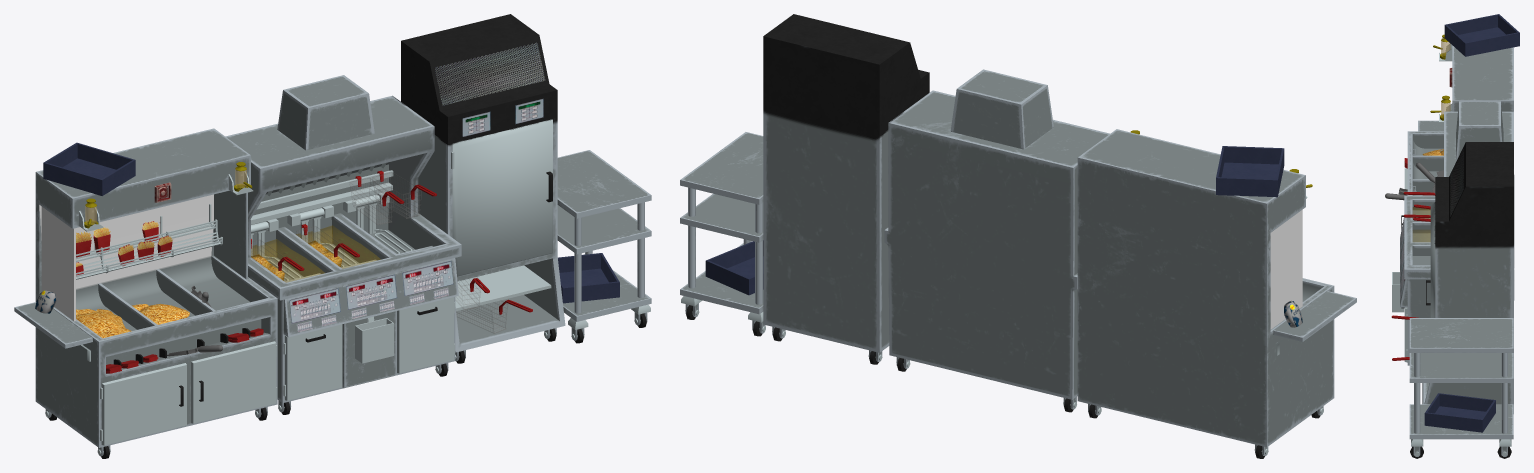
3 renders of one model, left to right at view 1: azimuth 30°, elevation 25°; view 2: azimuth 150°, elevation 25°; view 3: azimuth 270°, elevation 25°, orthographic. The views are drawn at different scales.
Parts seen in each view (by area): view 1: 5_low, 34_low, 39_low, 40_low, 26_low, 25_low, object 37, object 81, olive-oil, olive-oil.001, object 72, object 73; view 2: 34_low, 5_low, 39_low, 25_low, object 37, object 81; view 3: 39_low, 25_low, 5_low, 34_low, object 37, object 81, 40_low, 1_low, olive-oil, 1_low.001.
Boxes of the visible parts, x1,y1,x2,y2 form: 5_low: [225, 75, 461, 414]; 34_low: [14, 128, 277, 458]; 39_low: [401, 14, 565, 363]; 40_low: [452, 119, 552, 276]; 26_low: [101, 341, 276, 445]; 25_low: [557, 150, 651, 343]; object 37: [43, 142, 135, 195]; object 81: [558, 253, 619, 303]; olive-oil: [296, 225, 380, 268]; olive-oil.001: [251, 239, 324, 282]; object 72: [76, 309, 131, 338]; object 73: [132, 303, 189, 324]; 34_low: [1077, 129, 1356, 458]; 5_low: [884, 69, 1109, 412]; 39_low: [763, 14, 929, 364]; 25_low: [680, 132, 765, 336]; object 37: [1216, 146, 1284, 197]; object 81: [705, 240, 763, 295]; 39_low: [1422, 142, 1513, 413]; 25_low: [1409, 318, 1513, 458]; 5_low: [1392, 101, 1514, 365]; 34_low: [1407, 44, 1513, 195]; object 37: [1444, 14, 1519, 56]; object 81: [1424, 393, 1495, 432]; 40_low: [1426, 202, 1435, 317]; 1_low: [1416, 162, 1443, 195]; olive-oil: [1413, 230, 1430, 241]; 1_low.001: [1385, 188, 1407, 200].
Bounding box in the file's own units: 4.14 × 1.97 × 0.9941.
Materials: 8 (7 with a texture image).
